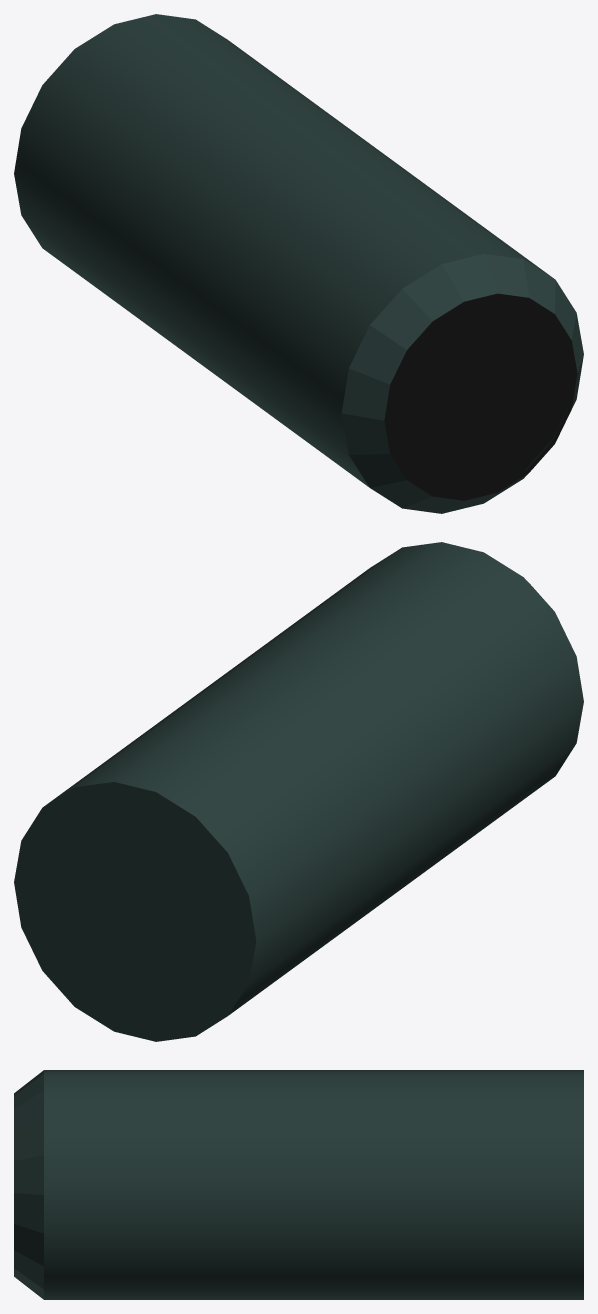
File: cylindre pour richard.fbx
3 views of the same model, one above another, from view 1: azimuth 30°, elevation 25°; view 2: azimuth 150°, elevation 25°; view 3: azimuth 270°, elevation 25° (orthographic). The views are drawn at different scales.
Parts seen in each view (by area): view 1: Cylindre pour richard; view 2: Cylindre pour richard; view 3: Cylindre pour richard.
Part boxes in pixels (left/top/right/bottom): Cylindre pour richard: left=14, top=14, right=583, bottom=513; Cylindre pour richard: left=14, top=542, right=583, bottom=1041; Cylindre pour richard: left=14, top=1070, right=583, bottom=1299.
Size of the model in its own units: 175 by 172 by 431.
